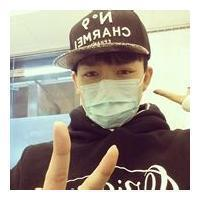face_mask: (77, 38, 143, 124)
